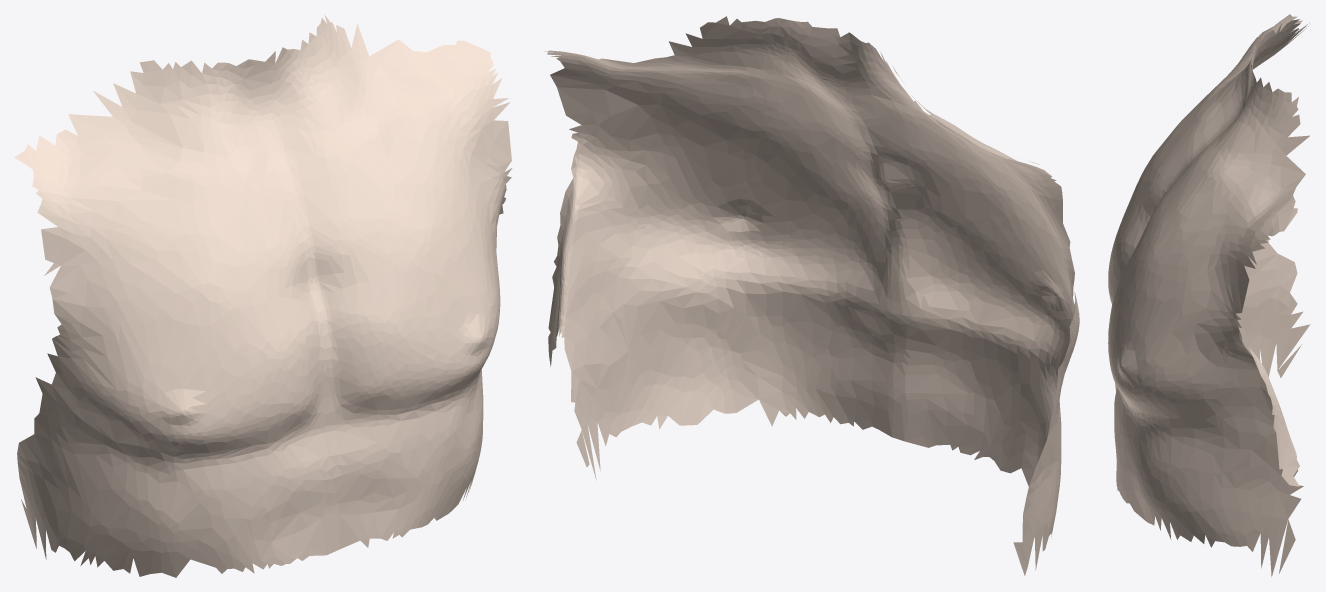
The model's file is torax-piel.glb.
3 renders of one model, left to right at view 1: azimuth 30°, elevation 25°; view 2: azimuth 150°, elevation 25°; view 3: azimuth 270°, elevation 25°, orthographic. The views are drawn at different scales.
Parts seen in each view (by area): view 1: piel_del_torax; view 2: piel_del_torax; view 3: piel_del_torax.
Part boxes in pixels (<box>): piel_del_torax: <box>14,14,512,577</box>; piel_del_torax: <box>544,16,1079,575</box>; piel_del_torax: <box>1108,14,1310,576</box>.
Size of the model in its own units: 0.349 by 0.3324 by 0.1412.
